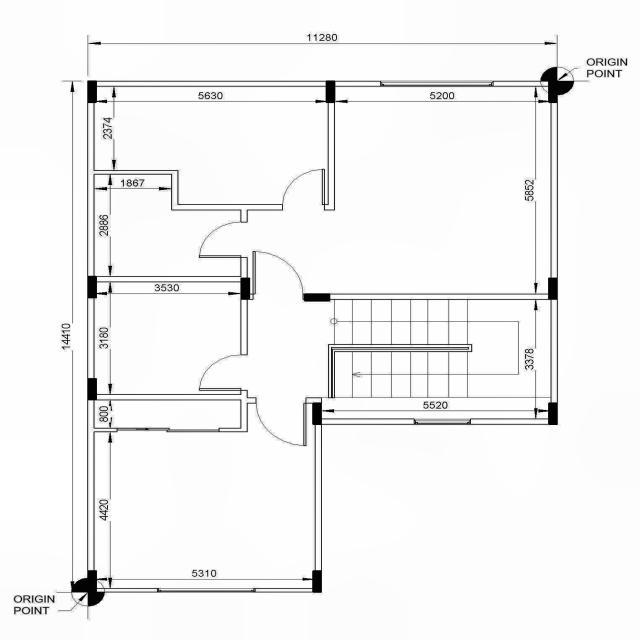Column: (302, 293, 330, 302), (548, 80, 558, 104), (312, 402, 322, 426), (326, 80, 336, 104), (548, 277, 558, 300), (548, 402, 558, 425), (312, 570, 322, 593), (240, 277, 250, 300), (88, 80, 96, 104), (88, 378, 96, 401), (88, 570, 96, 592), (88, 276, 96, 298)
Door: (252, 251, 302, 300), (256, 398, 306, 447), (282, 168, 325, 210), (198, 222, 248, 258), (199, 354, 248, 390)
Sliding Door: (116, 428, 220, 432)
Staircase: (328, 300, 551, 398)
Window: (381, 80, 494, 86), (157, 588, 255, 592), (414, 418, 471, 424)
